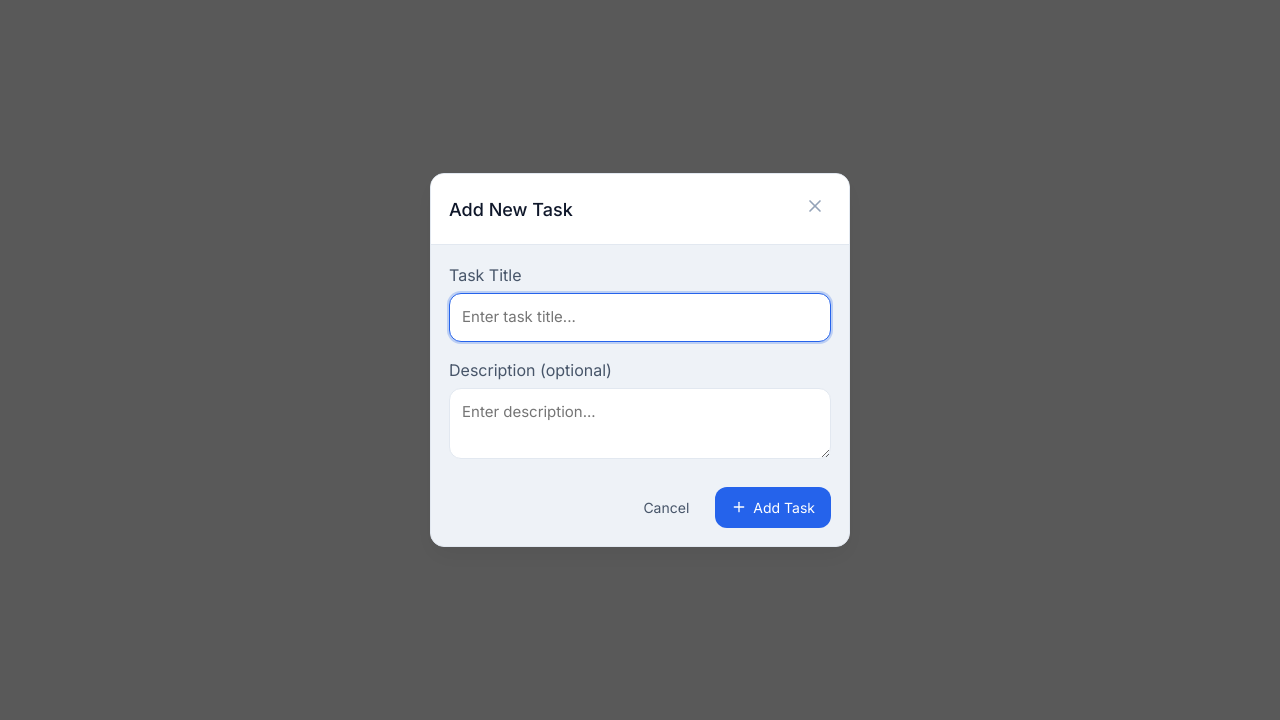
Test case: AddTaskModal — validation › clears validation error while typing a valid correction
// Trigger error first
Step 1. Click the button "Add Task" → (773, 507), box [715,487,831,528]
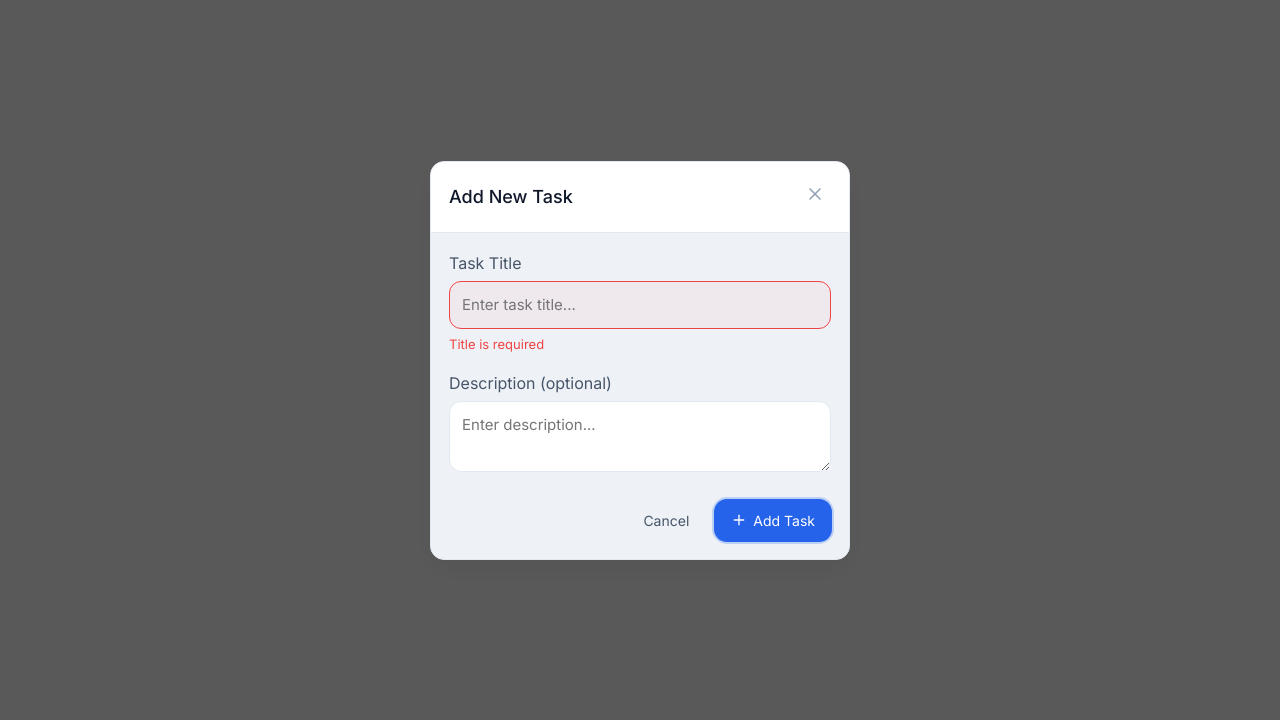
Now the text "Title is required" is shown, box [449,336,544,352]
// Start typing — error should clear
Step 2. Type "Valid title" into the field labelled "Task Title" → (640, 305), box [449,280,831,329]
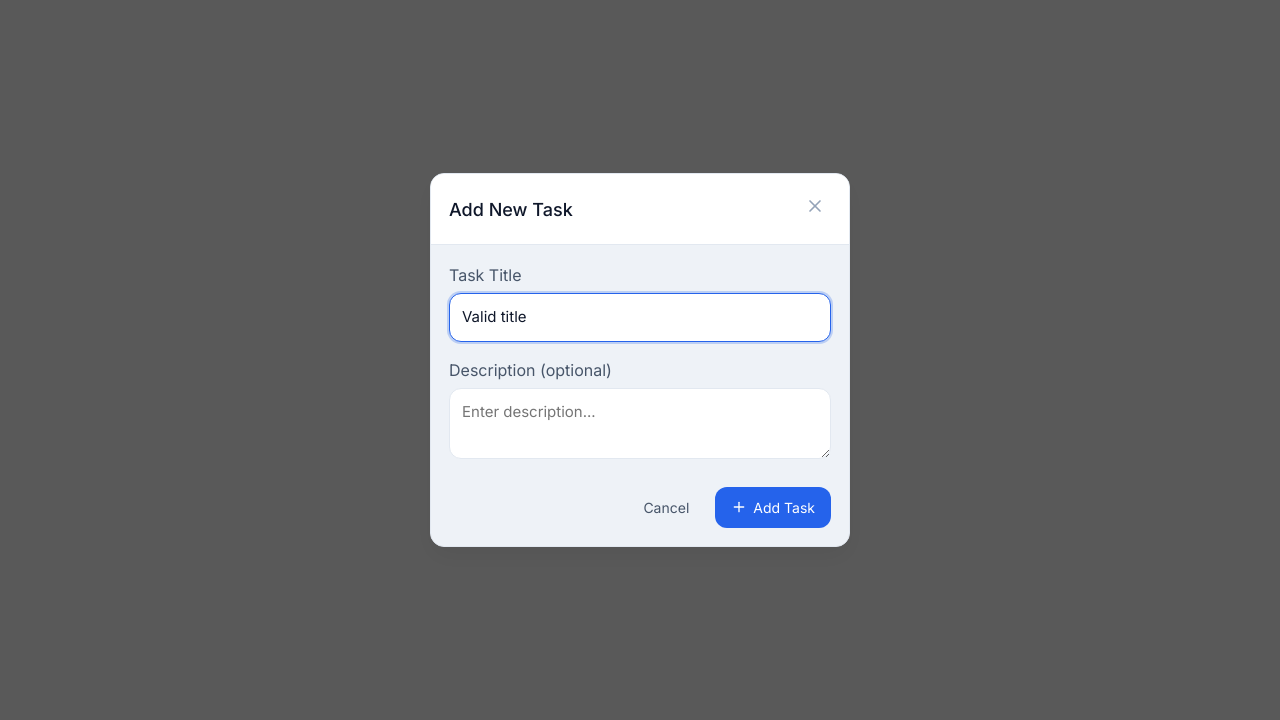
Now the text "Title is required" is gone
